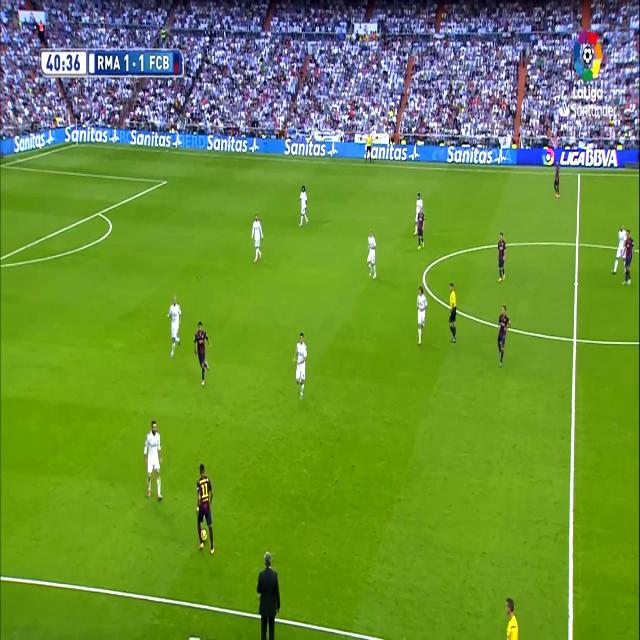bigarea_bottom_outter: (95, 205, 103, 219)
bigarea_top_inner: (161, 174, 167, 187)
halfcircle_bottom: (569, 325, 581, 352)
halfcircle_top: (572, 230, 583, 254)
midline_top_intersection: (575, 167, 583, 180)
